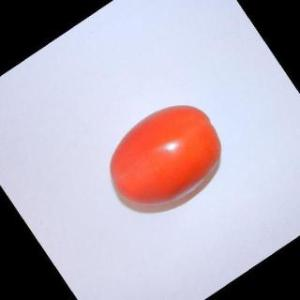tomato: (102, 100, 225, 220)
